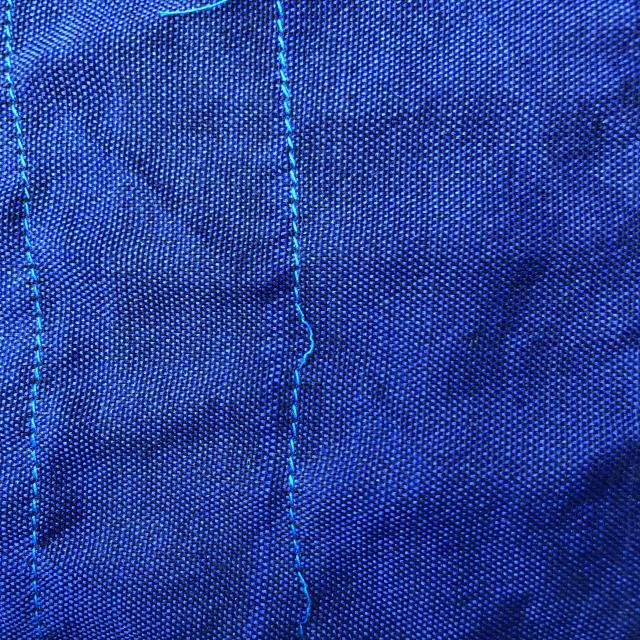skip: (260, 280, 342, 378), (271, 544, 336, 634)
